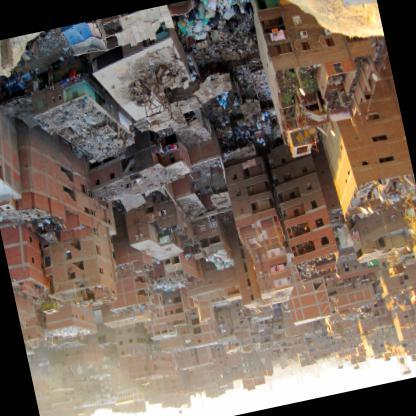Garbage: (181, 0, 256, 42), (48, 99, 96, 134), (81, 122, 123, 154), (253, 107, 281, 144), (212, 88, 235, 115), (211, 247, 232, 270)
